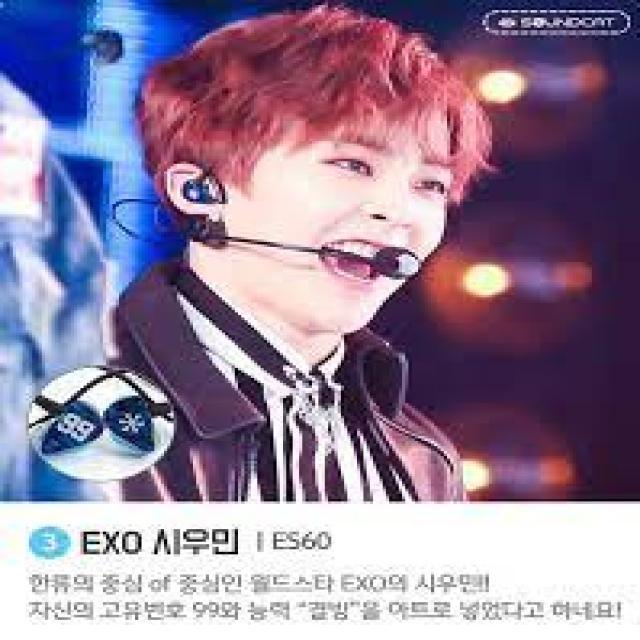earphone: (182, 164, 228, 218)
